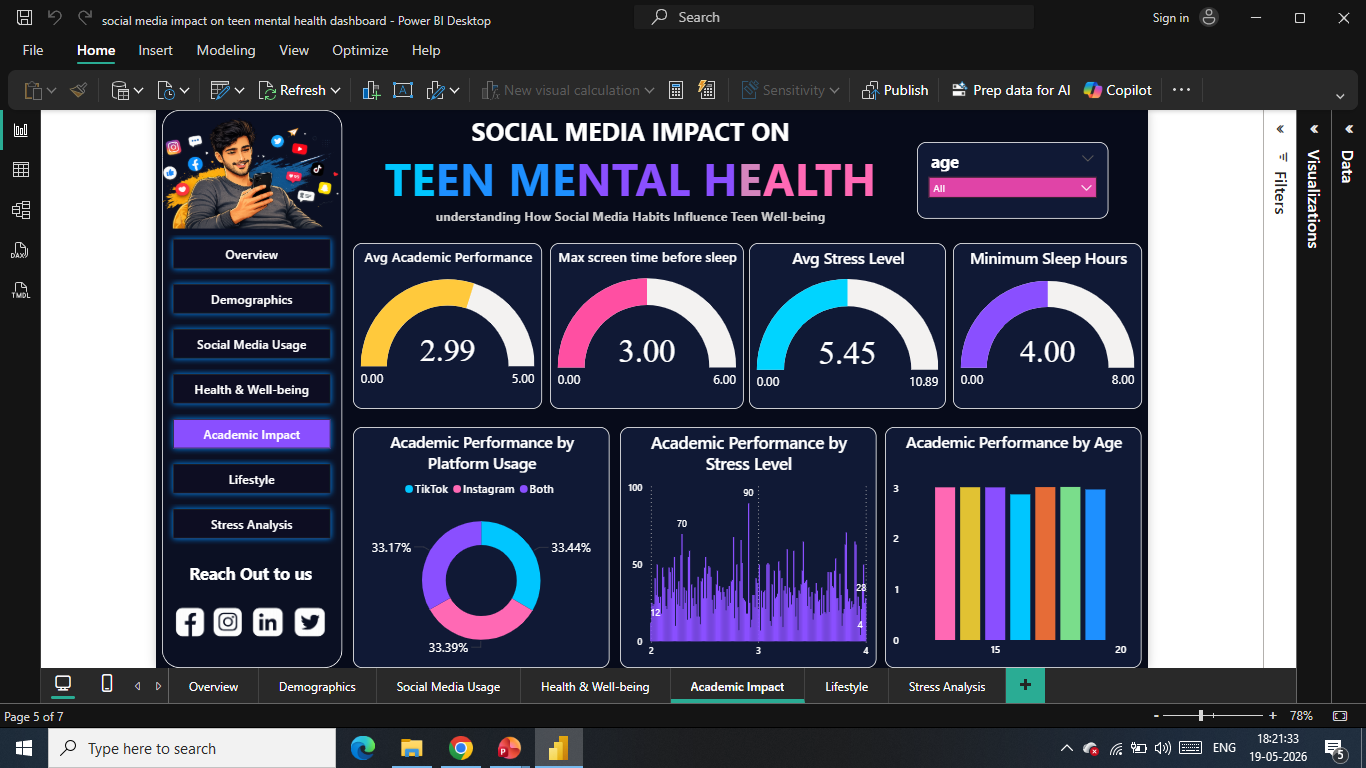

The page's visual inventory and layout, read from the dashboard file:
{"tool":"powerbi","page":{"name":"Academic Impact","canvas":[1280,720],"ordinal":4},"visuals":[{"type":"shape","box":[7.2,0,232.8,720],"z":0},{"type":"pageNavigator","box":[14.5,159,219.8,403.4],"z":1000},{"type":"textbox","box":[240,0,744.6,157.6],"z":2000},{"type":"gauge","title":"Max screen time before sleep","fields":{"Y":["Max(Teen_Mental_Health_Dataset.screen_time_before_sleep)"]},"box":[508.9,172,250.1,214],"z":3000},{"type":"gauge","title":"Avg Academic Performance","fields":{"Y":["Avg(Teen_Mental_Health_Dataset.academic_performance)"]},"box":[254.5,172,244.3,214],"z":4000},{"type":"gauge","title":"Minimum Sleep Hours","fields":{"Y":["Min(Teen_Mental_Health_Dataset.sleep_hours)"]},"box":[1028,172,244.3,214],"z":5000},{"type":"donutChart","title":"Academic Performance by Platform Usage","fields":{"Category":["Teen_Mental_Health_Dataset.platform_usage"],"Y":["Avg(Teen_Mental_Health_Dataset.academic_performance)"]},"box":[254.5,409.2,331.1,310.8],"z":6000},{"type":"image","box":[7.2,0,231.3,159],"z":7000},{"type":"image","box":[7.2,614.5,232.8,91.1],"z":8000},{"type":"textbox","box":[24.6,578.3,195.2,47.7],"z":9000},{"type":"gauge","fields":{"Y":["Teen_Mental_Health_Dataset.Avg Stress Level"]},"box":[764.8,172,254.5,214],"z":10000},{"type":"clusteredColumnChart","title":"Academic Performance by Age","fields":{"Category":["Teen_Mental_Health_Dataset.age"],"Y":["Avg(Teen_Mental_Health_Dataset.academic_performance)"]},"box":[941.2,409.2,331.1,310.8],"z":11000},{"type":"clusteredColumnChart","title":"Academic Performance by Stress Level","fields":{"Category":["Teen_Mental_Health_Dataset.academic_performance"],"Y":["Sum(Teen_Mental_Health_Dataset.stress_level)"]},"box":[598.8,408.7,330.9,311.4],"z":12000},{"type":"slicer","fields":{"Values":["Teen_Mental_Health_Dataset.age"]},"box":[982.4,41.9,246.7,98.7],"z":13000}]}

Visuals, with their boxes on the page's 1280x720 design canvas (x1, y1, x2, y2). These are canvas units, not pixel positions in the 1366x768 screenshot, which may show the page scaled, cropped or inside an application window:
shape: Rect(7, 0, 240, 720)
pageNavigator: Rect(14, 159, 234, 562)
textbox: Rect(240, 0, 985, 158)
"Max screen time before sleep" gauge: Rect(509, 172, 759, 386)
"Avg Academic Performance" gauge: Rect(254, 172, 499, 386)
"Minimum Sleep Hours" gauge: Rect(1028, 172, 1272, 386)
"Academic Performance by Platform Usage" donutChart: Rect(254, 409, 586, 720)
image: Rect(7, 0, 238, 159)
image: Rect(7, 614, 240, 706)
textbox: Rect(25, 578, 220, 626)
gauge - Teen_Mental_Health_Dataset.Avg Stress Level: Rect(765, 172, 1019, 386)
"Academic Performance by Age" clusteredColumnChart: Rect(941, 409, 1272, 720)
"Academic Performance by Stress Level" clusteredColumnChart: Rect(599, 409, 930, 720)
slicer - Teen_Mental_Health_Dataset.age: Rect(982, 42, 1229, 141)
